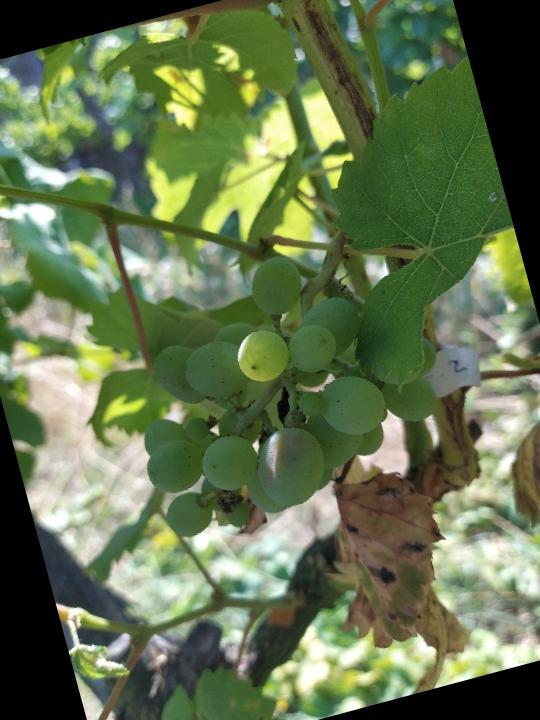grape: (99, 220, 467, 550)
